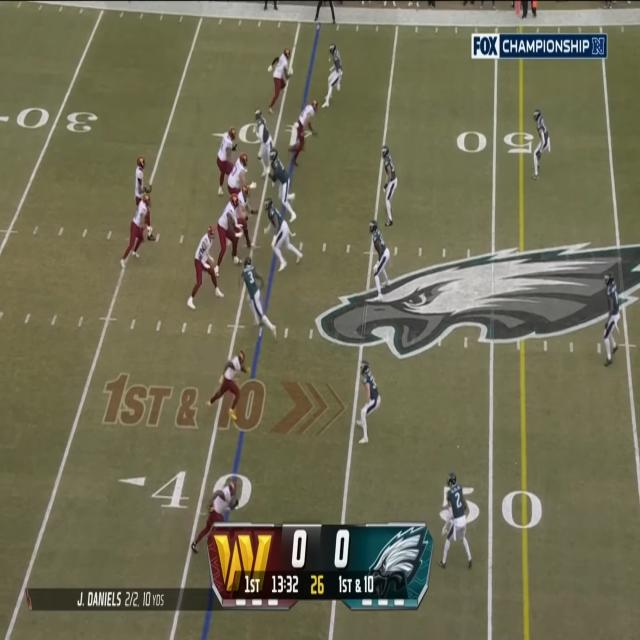Ball: (144, 181, 153, 197)
